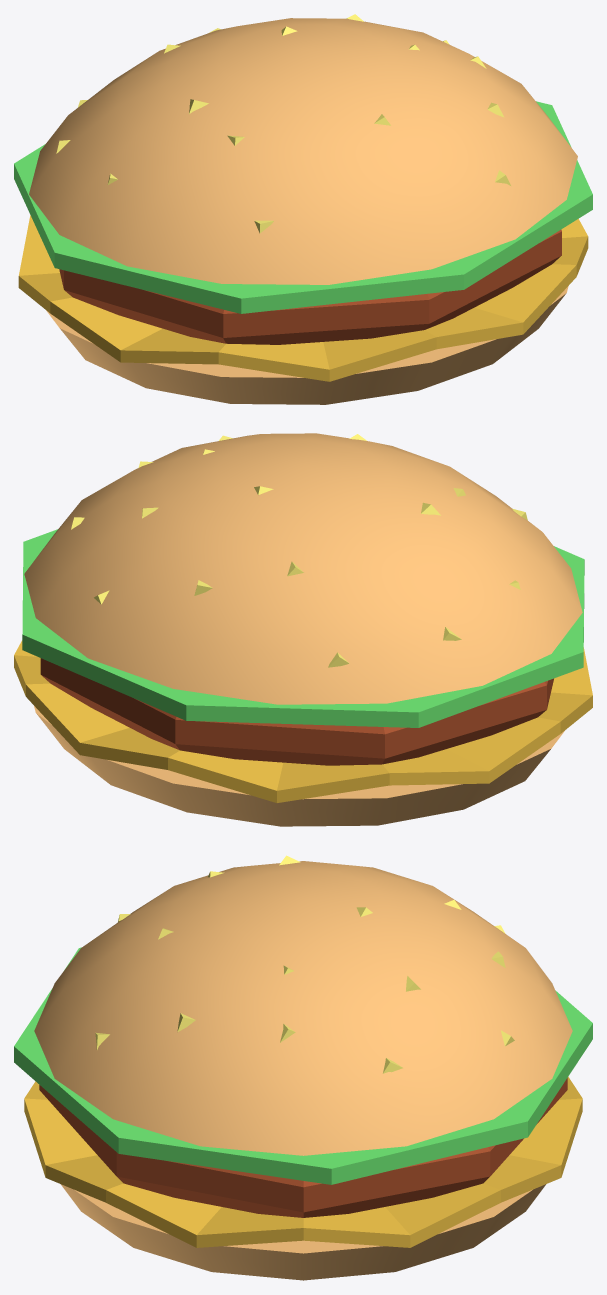
The model's file is burger2.fbx.
The picture shows the model from 3 angles, top to bottom: view 1: azimuth 30°, elevation 25°; view 2: azimuth 150°, elevation 25°; view 3: azimuth 270°, elevation 25°; orthographic projection. The views are drawn at different scales.
Parts seen in each view (by area): view 1: burger; view 2: burger; view 3: burger.
Boxes of the visible parts, x1=… form: burger: x1=14, y1=14, x2=592, y2=404; burger: x1=14, y1=433, x2=592, y2=826; burger: x1=14, y1=855, x2=592, y2=1280.
Size of the model in its own units: 20 by 9.37 by 18.24.
1 material, 1 textured.
